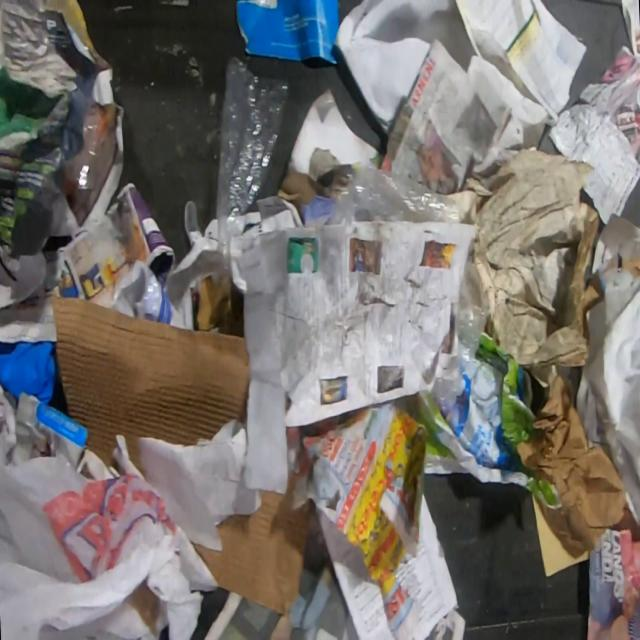cardboard: (448, 147, 605, 388), (49, 293, 250, 474), (515, 374, 626, 552), (190, 467, 310, 617), (163, 199, 221, 330), (192, 276, 245, 337), (127, 581, 162, 629)
rigid_plastic: (0, 340, 88, 447), (58, 90, 118, 228)
soft_plastic: (0, 436, 176, 640), (213, 54, 292, 278), (430, 253, 490, 419), (324, 160, 471, 225), (108, 259, 170, 322)
